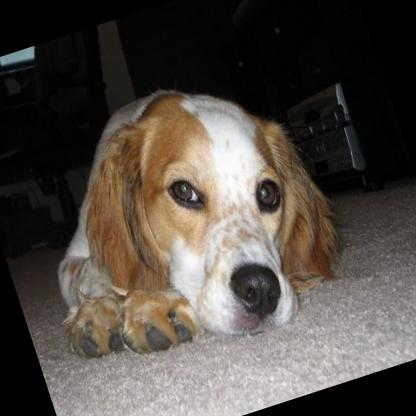Brittany_spaniel: (0, 40, 368, 394)
